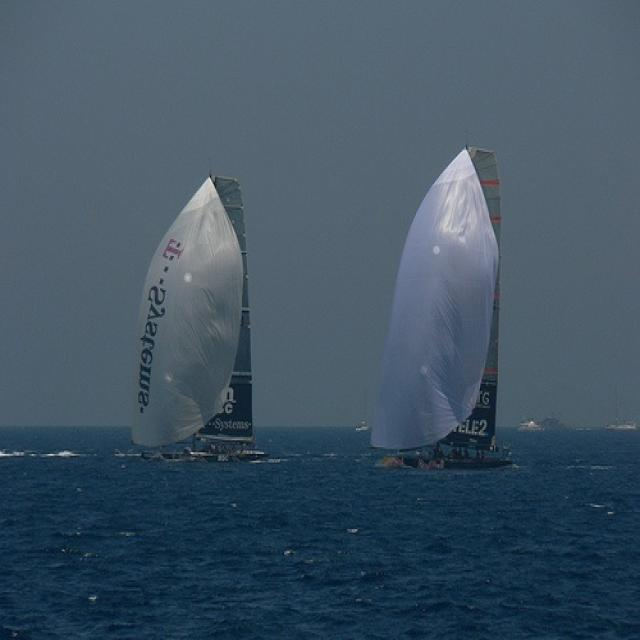boat: (370, 143, 516, 470), (132, 176, 270, 461)
